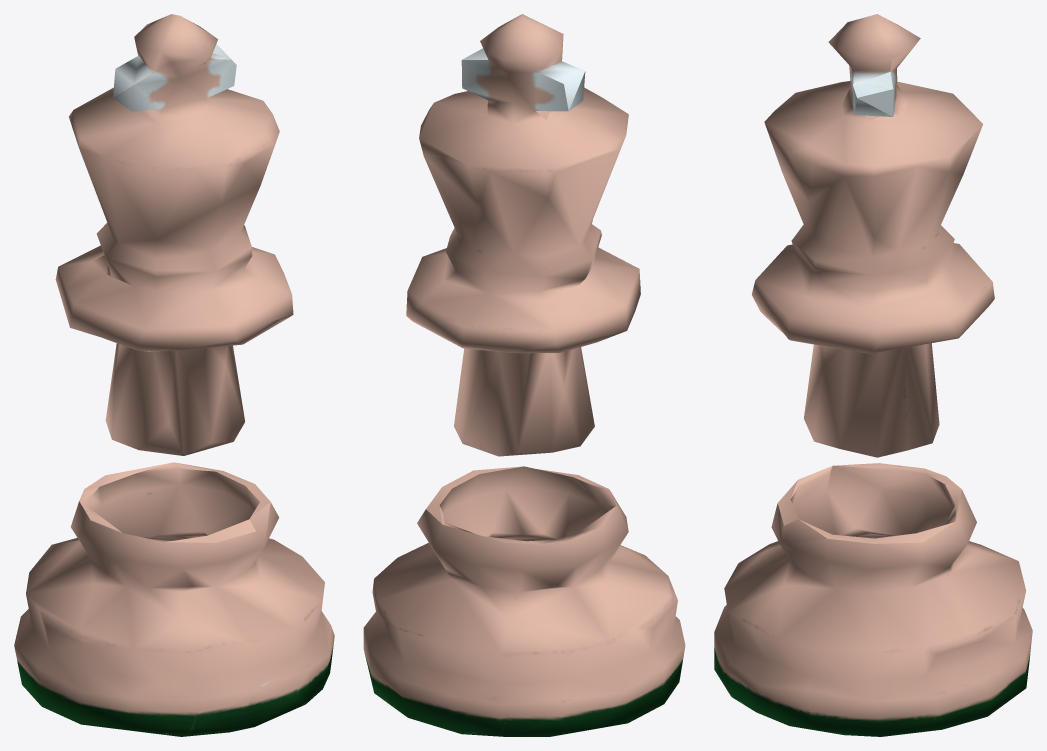
Rendered from chess-queen-white.glb.
3 renders of one model, left to right at view 1: azimuth 30°, elevation 25°; view 2: azimuth 150°, elevation 25°; view 3: azimuth 270°, elevation 25°, orthographic.
Visible parts, largest first — view 1: geometry_0.001; view 2: geometry_0.001; view 3: geometry_0.001.
Boxes of the visible parts, left/top/right/bottom form: geometry_0.001: left=14, top=14, right=334, bottom=736; geometry_0.001: left=363, top=14, right=685, bottom=736; geometry_0.001: left=714, top=14, right=1032, bottom=736.
Bounding box in the file's own units: 0.4445 × 1 × 0.4398.
1 material, 1 textured.
